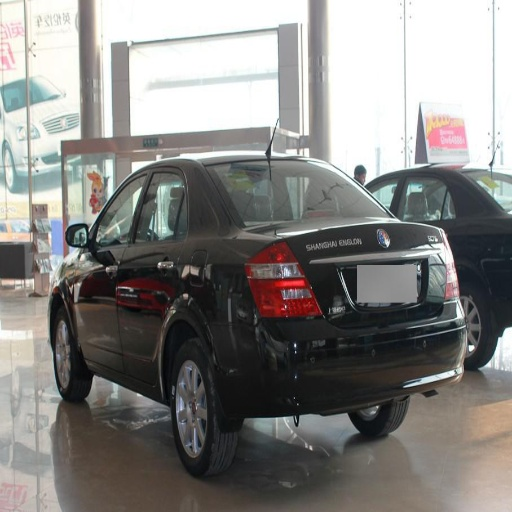back_bumper: (214, 300, 477, 415)
back_glass: (280, 171, 377, 214)
back_left_door: (121, 165, 189, 373)
tailgate: (279, 206, 446, 330)
